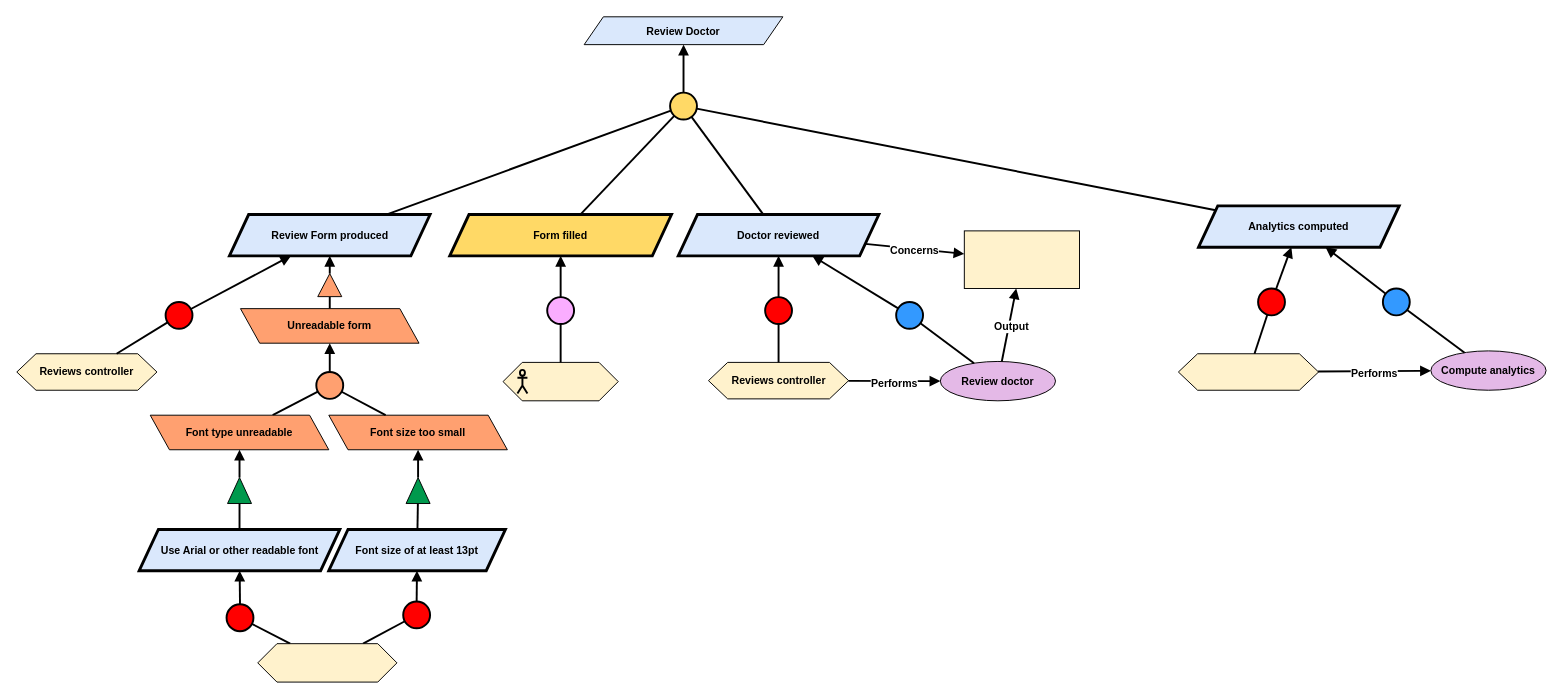
Image size: 1563x699. Some labels were removed from this diagram. Here are the shapes that lost their labels. From the top down, the box of each, then its label:
(963, 230, 1080, 288): Review
(502, 361, 618, 401): Patient
(1177, 353, 1319, 390): Analytics controller
(257, 643, 397, 682): Interface designer
